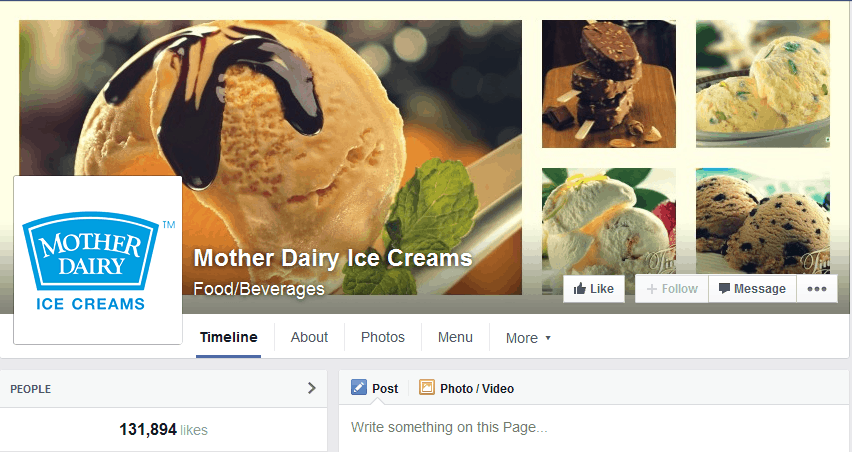Mother_Dairy: (14, 210, 181, 328)
